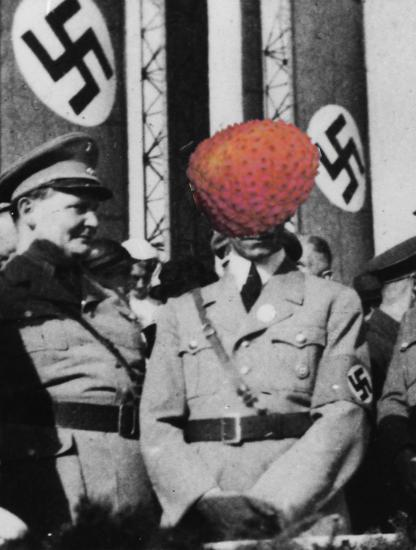Lychee: (190, 110, 326, 246)
